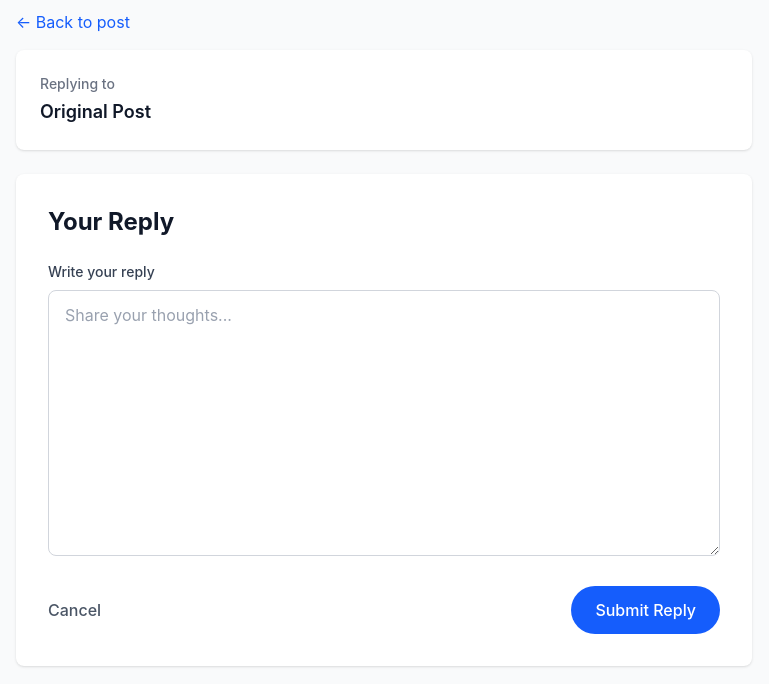
Test: ComposeReply › shows submitting state while posting
Expected: the heading "Your Reply" is shown, [48,207,174,236]
Type "Reply" into the text box labelled "Write your reply" at (384, 423), box [48,290,720,556]
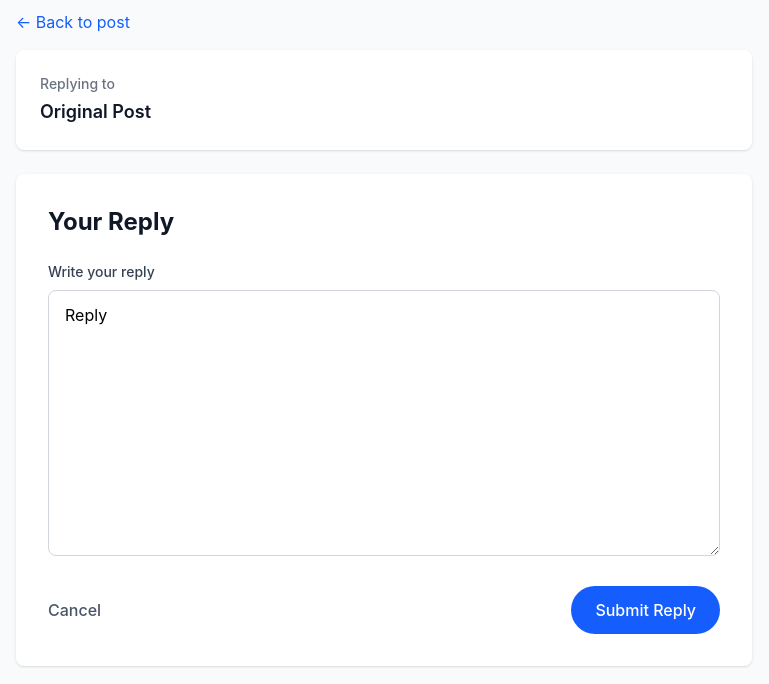
Click the button "Submit Reply" at (646, 610), box [571,586,720,634]
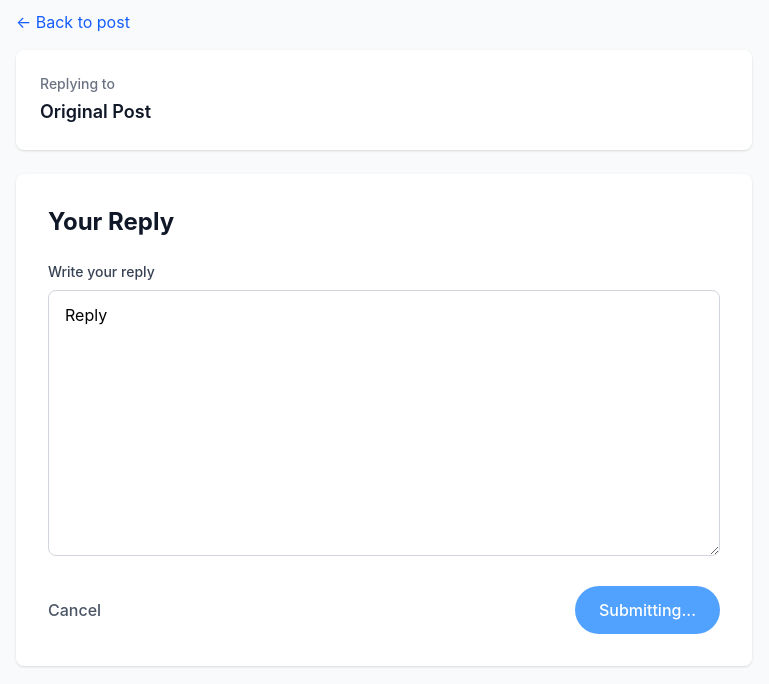
Now the button "Submitting..." is shown, box [575,586,720,634]
